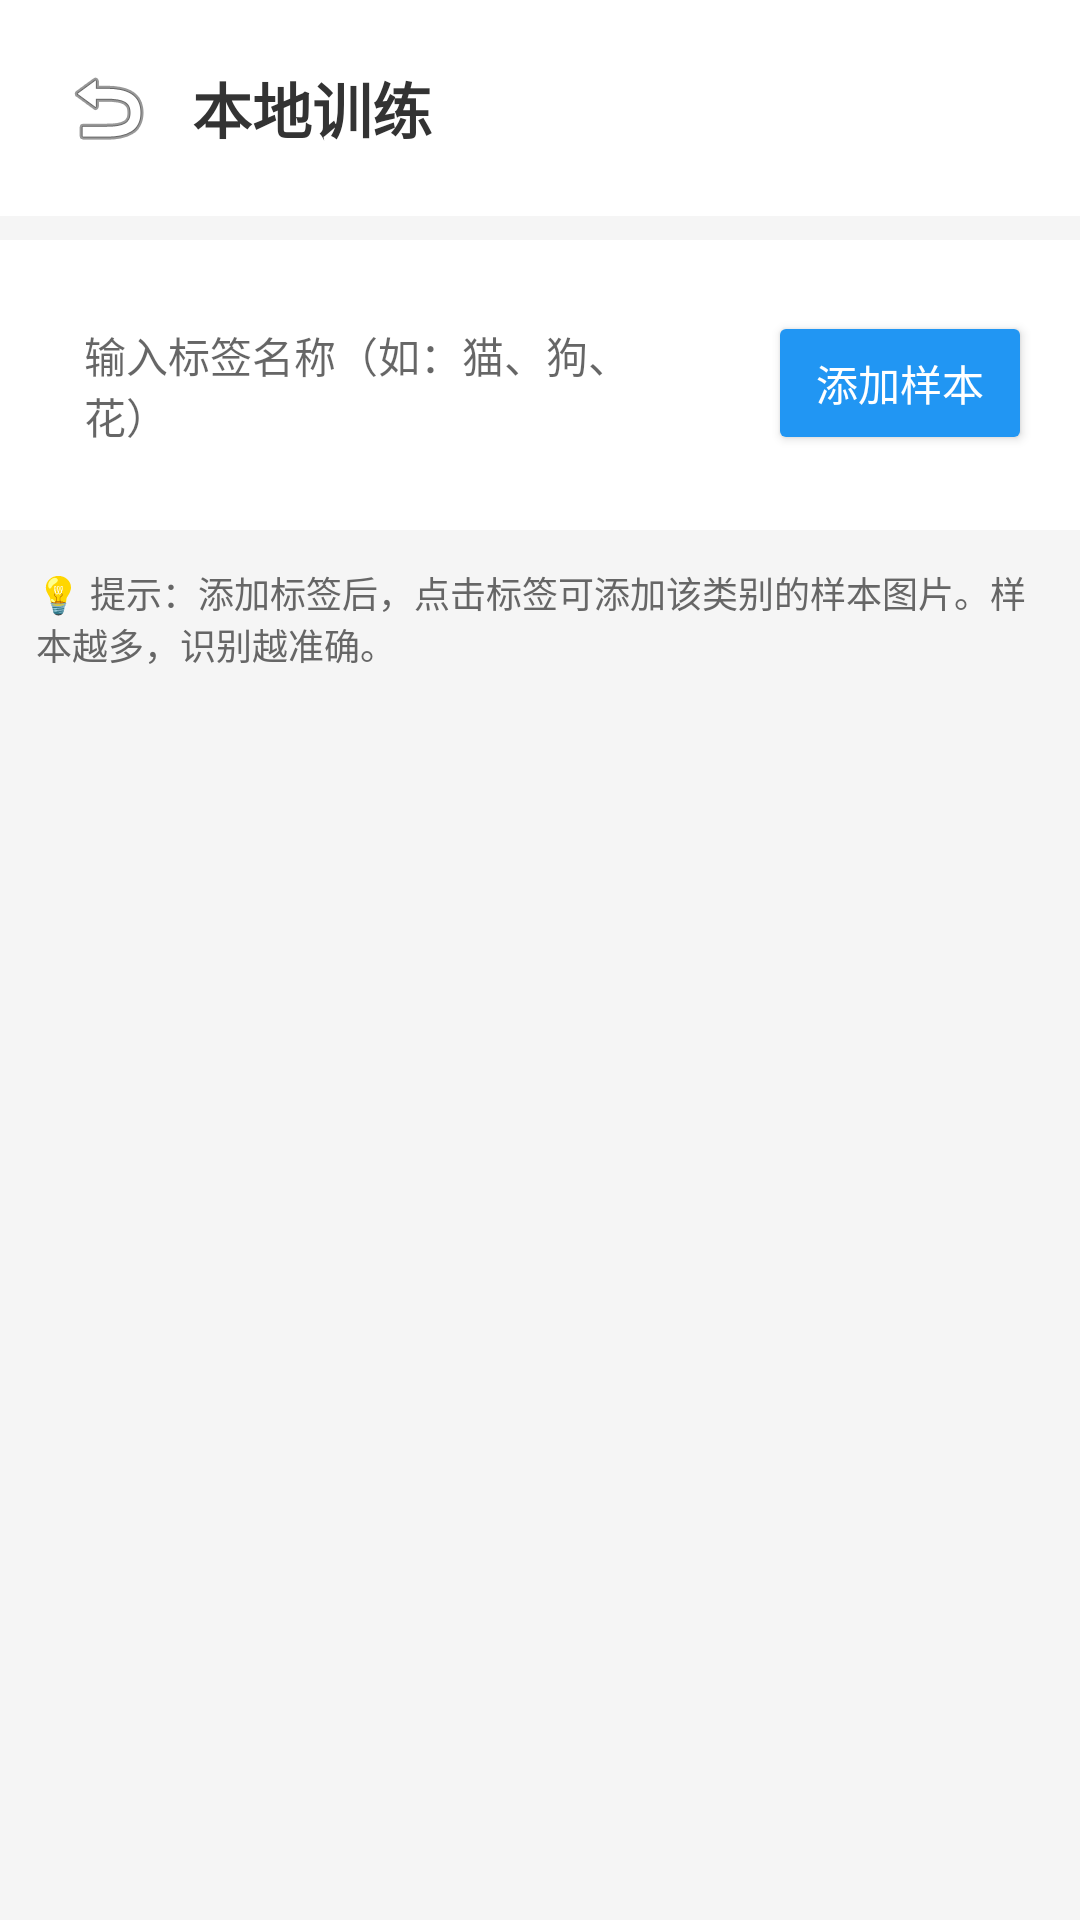

Icons on this 1080w x 1920h Android screen, each with the point to tap as [x,y]:
返回: [109,108]
